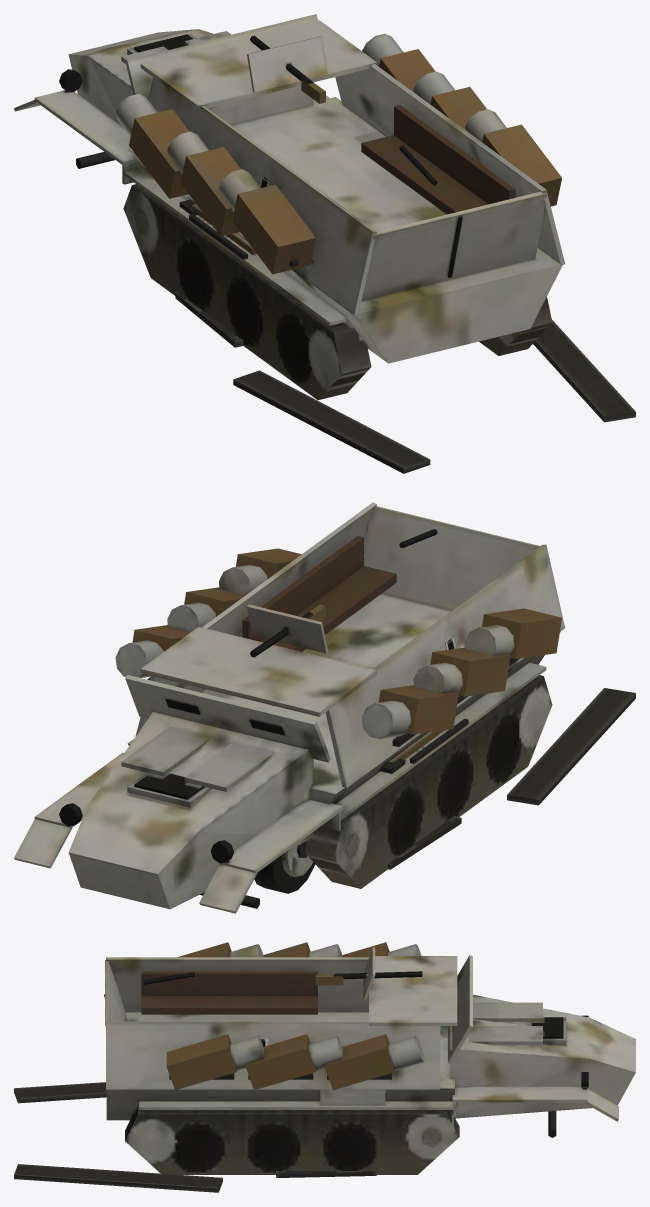
Rendered from sdkfz251_rocket_winter.glb.
3 renders of one model, top to bottom at view 1: azimuth 30°, elevation 25°; view 2: azimuth 150°, elevation 25°; view 3: azimuth 270°, elevation 25°, orthographic. The views are drawn at different scales.
Visible parts, largest first — view 1: hull_ok, hull_trackL, hull_trackR; view 2: hull_ok, hull_trackL, wheels_L_16_ok; view 3: hull_ok, hull_trackR, hull_trackL.
Boxes of the visible parts, box(x1,y1,x2,y2) form: hull_ok: box(14, 14, 565, 400); hull_trackL: box(175, 292, 430, 473); hull_trackR: box(533, 319, 635, 422); hull_ok: box(14, 502, 564, 913); hull_trackL: box(388, 688, 635, 869); wheels_L_16_ok: box(257, 855, 315, 893); hull_ok: box(104, 942, 635, 1174); hull_trackR: box(14, 1164, 376, 1192); hull_trackL: box(14, 1082, 106, 1103).
Bounding box in the file's own units: 2.91 × 2.5 × 6.7.
9 materials, 9 textured.
